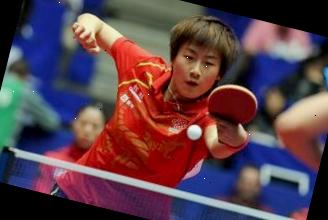ball: (182, 120, 204, 144)
